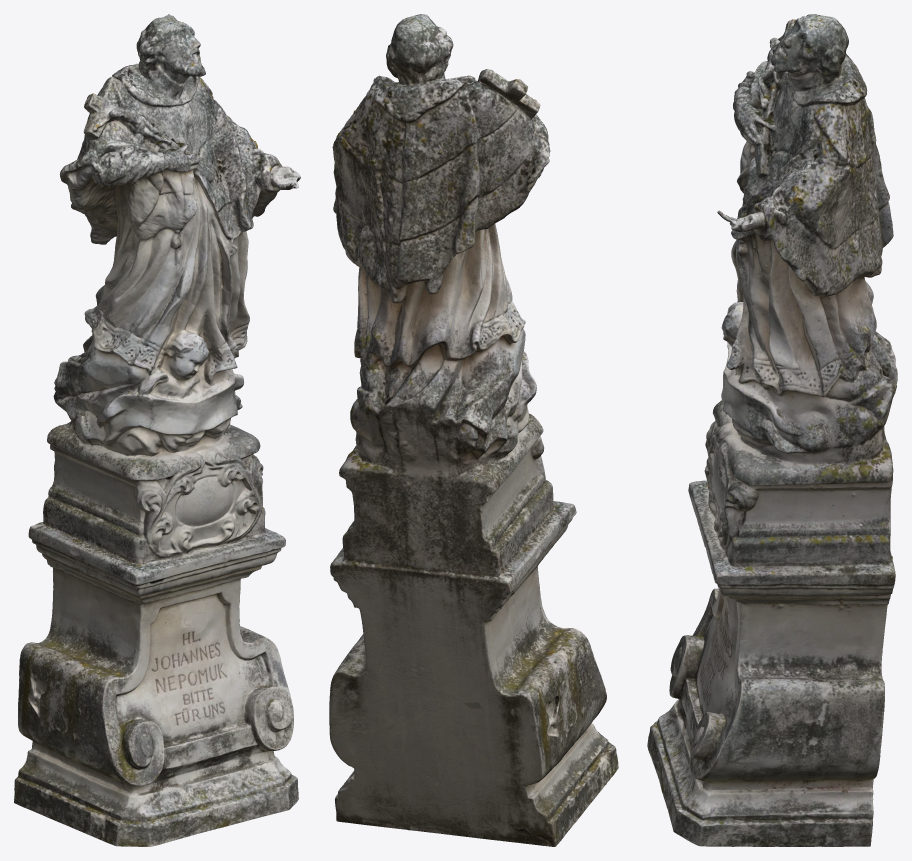
Rendered from sculpture-transformed.glb.
3 views of the same model, side by side, from view 1: azimuth 30°, elevation 25°; view 2: azimuth 150°, elevation 25°; view 3: azimuth 270°, elevation 25° (orthographic). The views are drawn at different scales.
Visible parts, largest first — view 1: sculpture; view 2: sculpture; view 3: sculpture.
Part boxes in pixels (left/top/right/bottom): sculpture: left=14, top=14, right=300, bottom=846; sculpture: left=329, top=14, right=618, bottom=846; sculpture: left=647, top=14, right=897, bottom=846.
Bounding box in the file's own units: 10.73 × 33.61 × 9.21.
3 materials, 1 textured.
